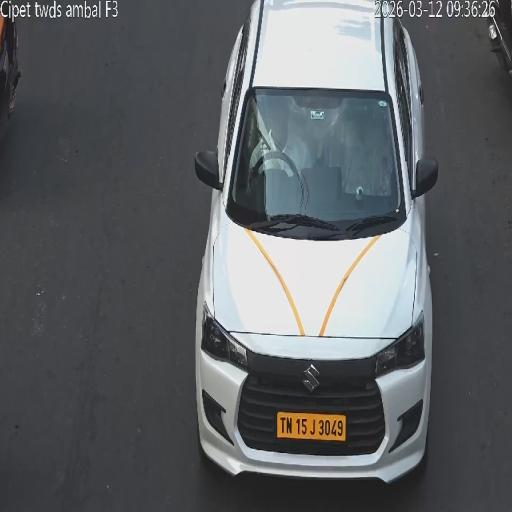person_with_seatbelt: (251, 98, 282, 172)
